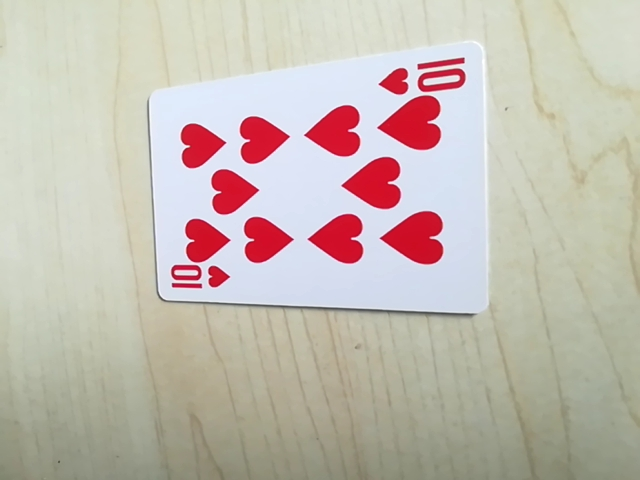hx 10: (376, 52, 471, 100), (162, 262, 233, 298)
